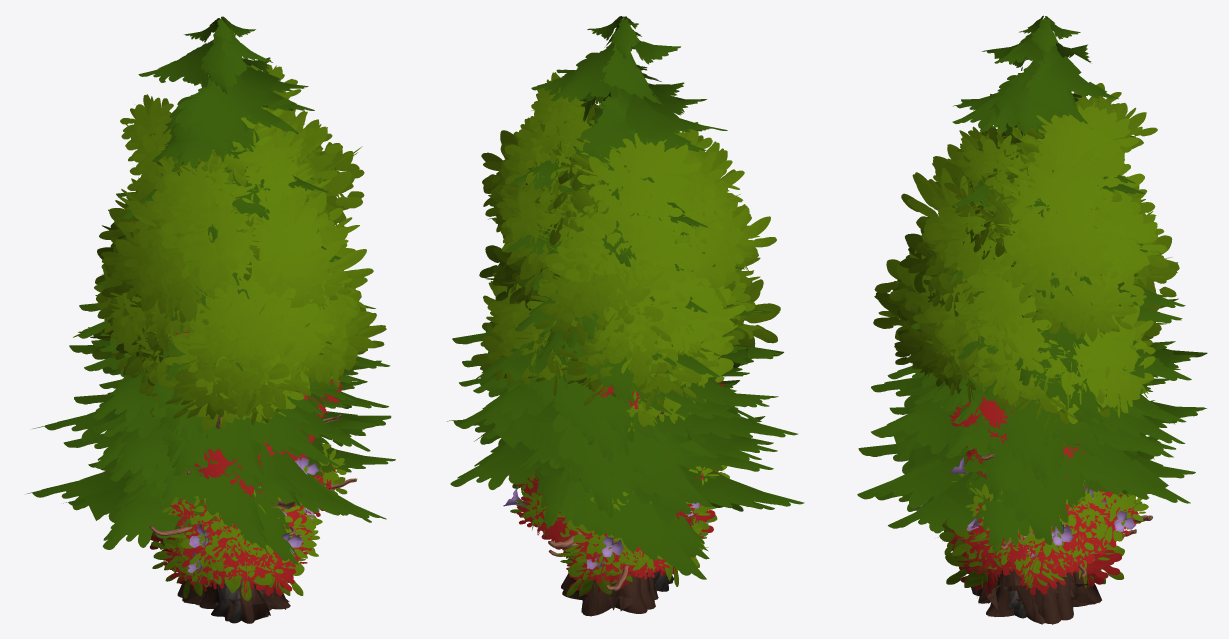
File: natur_original_baeume.glb
The picture shows the model from 3 angles, left to right: view 1: azimuth 30°, elevation 25°; view 2: azimuth 150°, elevation 25°; view 3: azimuth 270°, elevation 25°; orthographic projection.
Parts seen in each view (by area): view 1: Buche1_Fern, Buche1, Kiefer1, Fichte2, Kiefer1_Fern, Eiche2, Eiche2_Fern, Fichte1, Holunder1_Fern, Holunder1, Eiche3_Fern, Fichte1_Fern (+12 smaller); view 2: Kiefer1, Buche1, Buche1_Fern, Kiefer1_Fern, Fichte2, Eiche3_Fern, Eiche3, Eiche2_Fern, Eiche2, Fichte2_Fern, Fichte1, Eiche1_Fern (+9 smaller); view 3: Buche1_Fern, Buche1, Kiefer1, Fichte2, Eiche3_Fern, Eiche3, Kiefer1_Fern, Eiche2_Fern, Eiche2, Fichte1, Fichte2_Fern, Holunder1_Fern (+13 smaller).
Boxes of the visible parts, left/top/right/bottom form: Buche1_Fern: left=78, top=90, right=376, bottom=615; Buche1: left=92, top=116, right=386, bottom=617; Kiefer1: left=45, top=17, right=383, bottom=606; Fichte2: left=32, top=315, right=386, bottom=550; Kiefer1_Fern: left=33, top=16, right=390, bottom=534; Eiche2: left=127, top=65, right=331, bottom=597; Eiche2_Fern: left=120, top=65, right=340, bottom=583; Fichte1: left=68, top=344, right=395, bottom=623; Holunder1_Fern: left=142, top=443, right=347, bottom=600; Holunder1: left=142, top=445, right=342, bottom=591; Eiche3_Fern: left=94, top=156, right=366, bottom=431; Fichte1_Fern: left=63, top=344, right=386, bottom=622; Kiefer1: left=458, top=16, right=797, bottom=590; Buche1: left=485, top=97, right=775, bottom=609; Buche1_Fern: left=481, top=101, right=780, bottom=606; Kiefer1_Fern: left=452, top=16, right=783, bottom=586; Fichte2: left=450, top=230, right=804, bottom=575; Eiche3_Fern: left=471, top=162, right=762, bottom=614; Eiche3: left=479, top=187, right=747, bottom=616; Eiche2_Fern: left=522, top=72, right=743, bottom=415; Eiche2: left=532, top=80, right=727, bottom=586; Fichte2_Fern: left=447, top=325, right=778, bottom=579; Fichte1: left=524, top=249, right=774, bottom=583; Eiche1_Fern: left=526, top=196, right=754, bottom=423; Buche1_Fern: left=873, top=123, right=1179, bottom=624; Buche1: left=885, top=124, right=1177, bottom=624; Kiefer1: left=871, top=16, right=1195, bottom=549; Fichte2: left=866, top=294, right=1199, bottom=541; Eiche3_Fern: left=895, top=147, right=1167, bottom=604; Eiche3: left=911, top=164, right=1155, bottom=620; Kiefer1_Fern: left=871, top=15, right=1207, bottom=545; Eiche2_Fern: left=916, top=83, right=1157, bottom=601; Eiche2: left=951, top=94, right=1146, bottom=444; Fichte1: left=876, top=368, right=1186, bottom=603; Fichte2_Fern: left=857, top=292, right=1206, bottom=544; Holunder1_Fern: left=914, top=463, right=1148, bottom=588.
Size of the model in its own units: 6.36 by 10.77 by 6.13.
Materials: 6 (6 with a texture image).
